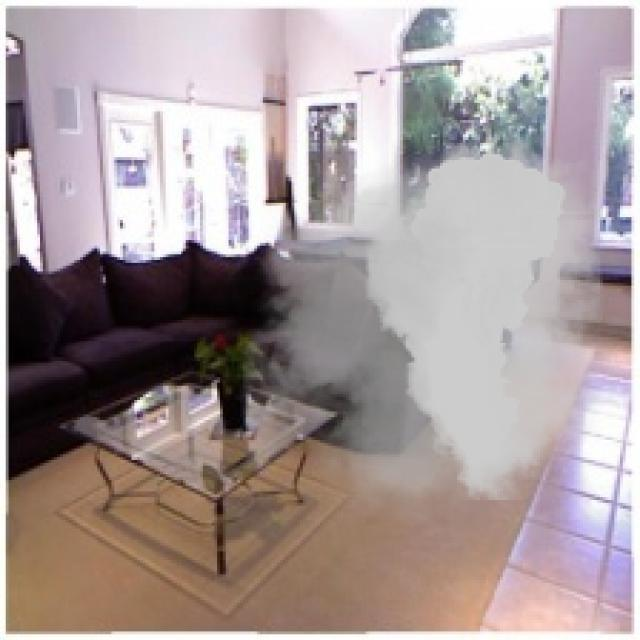Smoke: (217, 125, 634, 526)
